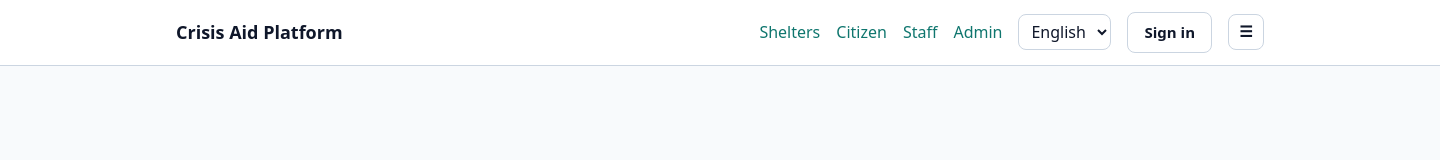
it: three key frontend components › Navbar switches UI language across navigation links
Expected: the link "Shelters" is shown, left=759, top=20, right=820, bottom=44
Select "සිංහල" in the dropdown named "Language" at [1065, 32], box left=1018, top=14, right=1112, bottom=50
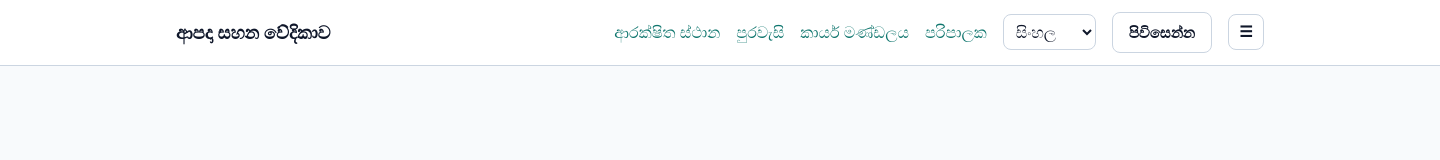
Expected: the link "ආරක්ෂිත ස්ථාන" is shown, left=614, top=20, right=720, bottom=44
